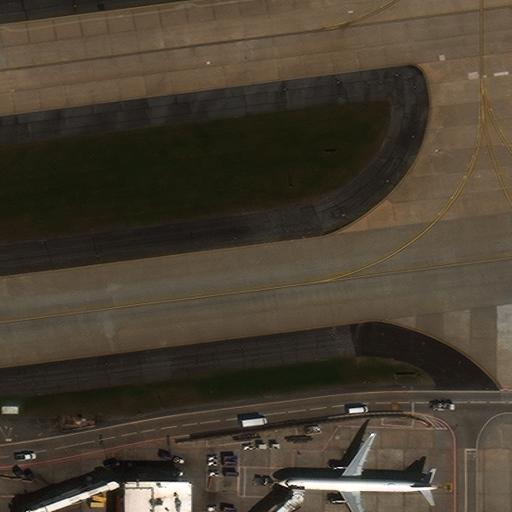Medium Civil Transport: (279, 432, 438, 512)
